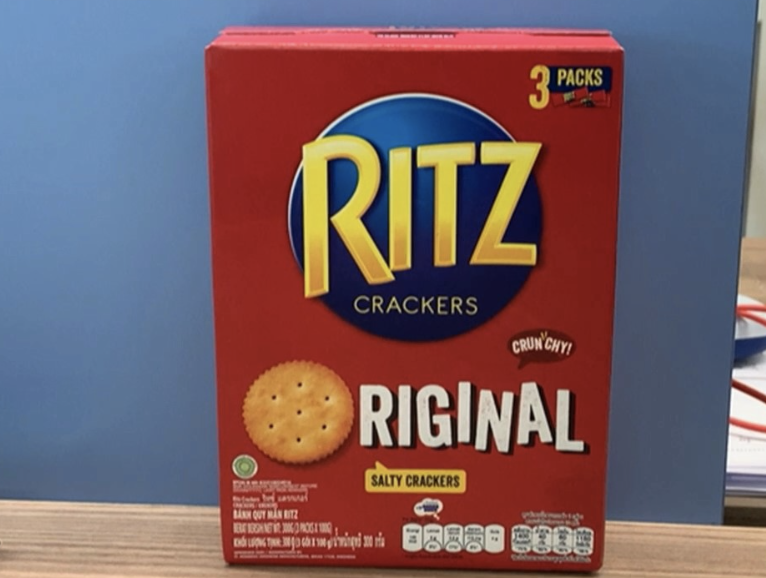crackers_300g-399g: (219, 63, 605, 565)
